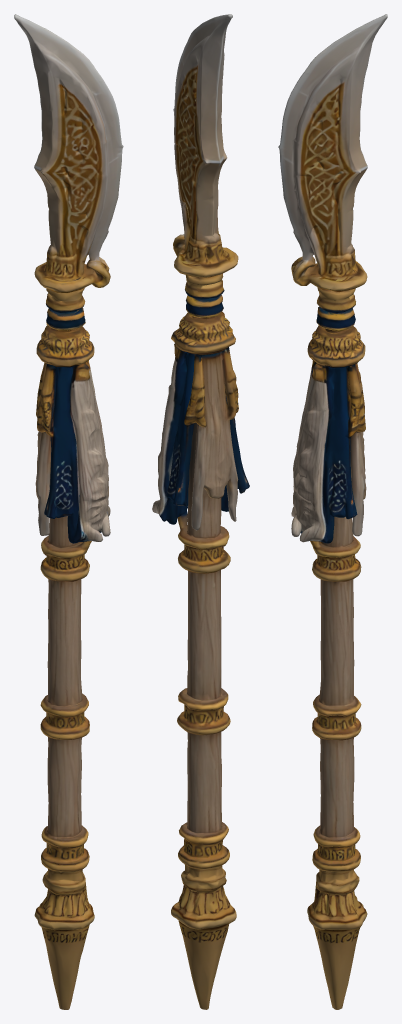
File: look-weapon-t7-tripo.glb
3 renders of one model, left to right at view 1: azimuth 90°, elevation 25°; view 2: azimuth 210°, elevation 25°; view 3: azimuth 270°, elevation 25°, orthographic.
Parts seen in each view (by area): view 1: tripo_node_7820c7da-b1a2-4d98-b9cd-3975aebb7813; view 2: tripo_node_7820c7da-b1a2-4d98-b9cd-3975aebb7813; view 3: tripo_node_7820c7da-b1a2-4d98-b9cd-3975aebb7813.
Part boxes in pixels (x1,y1,x2,y2): tripo_node_7820c7da-b1a2-4d98-b9cd-3975aebb7813: [14, 14, 123, 1009]; tripo_node_7820c7da-b1a2-4d98-b9cd-3975aebb7813: [152, 14, 249, 1009]; tripo_node_7820c7da-b1a2-4d98-b9cd-3975aebb7813: [278, 14, 387, 1009].
Bounding box in the file's own units: 0.0781 × 1 × 0.0999.
Materials: 1 (1 with a texture image).
